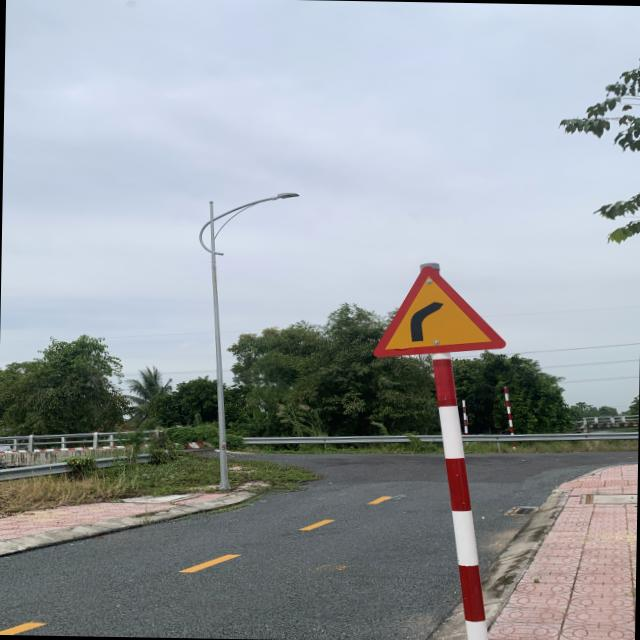Duong_Nguoi_Di_Bo_Cat_Ngang: (373, 262, 510, 360)
